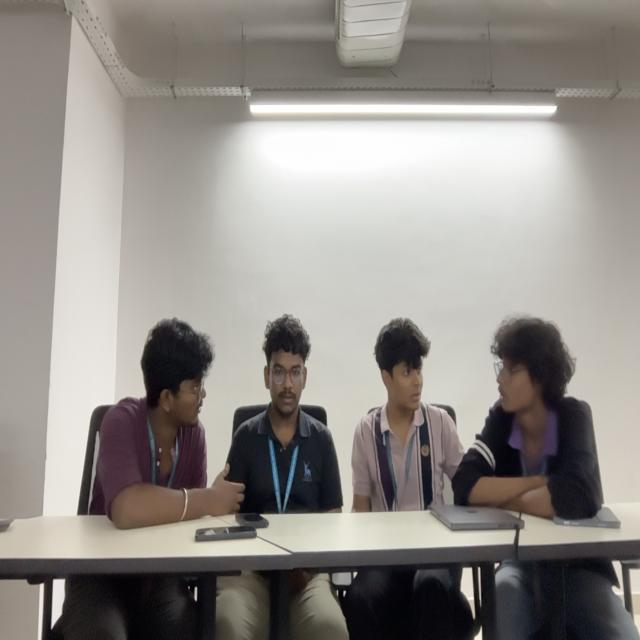Isolated: (244, 297, 332, 511)
socializing: (365, 302, 602, 521), (92, 298, 237, 530)
